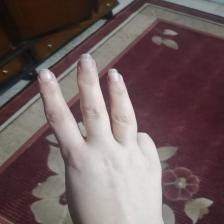five: (32, 51, 167, 216)
